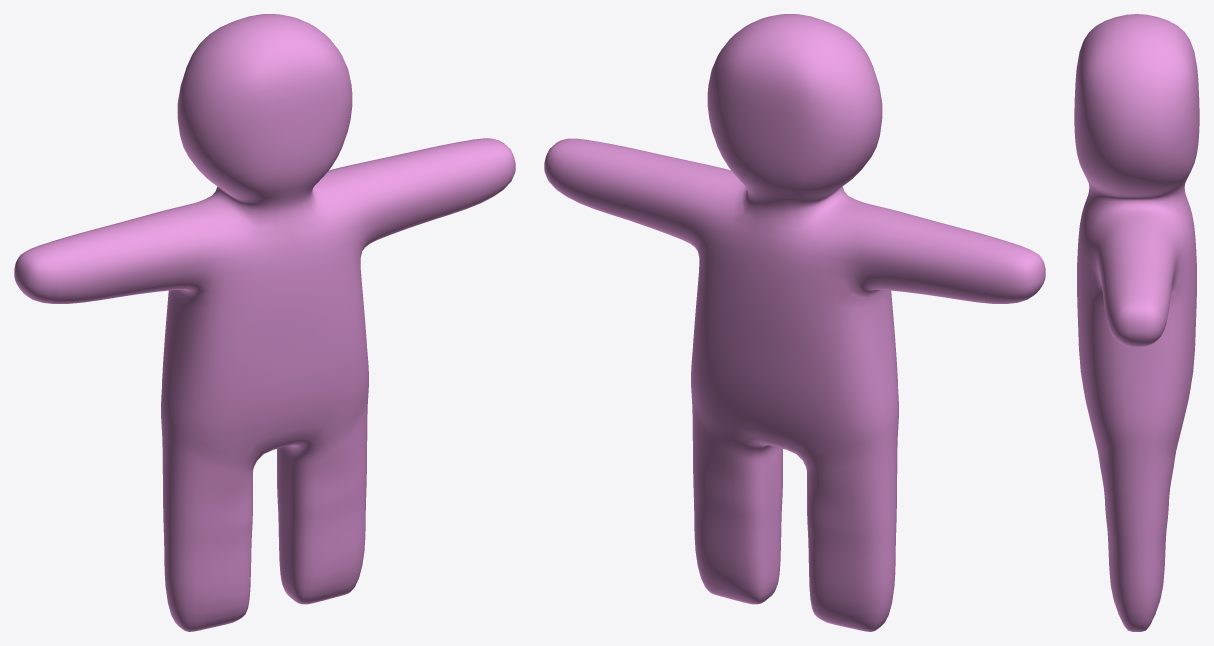
File: character_V3.fbx
3 renders of one model, left to right at view 1: azimuth 30°, elevation 25°; view 2: azimuth 150°, elevation 25°; view 3: azimuth 270°, elevation 25°, orthographic. The views are drawn at different scales.
Parts seen in each view (by area): view 1: CharacterV2; view 2: CharacterV2; view 3: CharacterV2.
Boxes of the visible parts, <box> form: CharacterV2: <box>14,14,515,631</box>; CharacterV2: <box>544,14,1045,631</box>; CharacterV2: <box>1074,14,1199,631</box>.
Bounding box in the file's own units: 15004 × 17204 × 3416.
